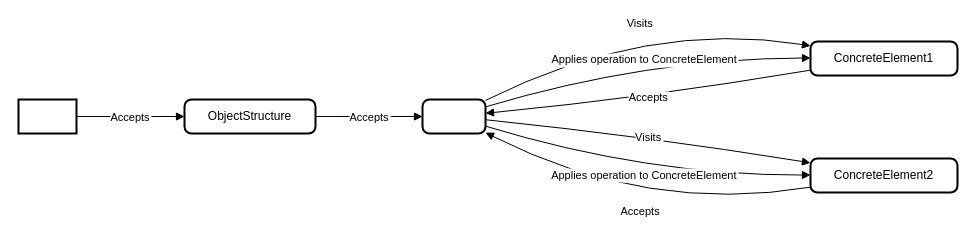
The diagram is 975 pixels wide and 235 high, and some of its shapes have lost their labels. The shapes that lost their labels are listed below. From the top down, each one's box as (x1, y1, x2, y2) in pixels, then its label:
(17, 98, 77, 134): Client
(421, 98, 486, 134): Visitor
